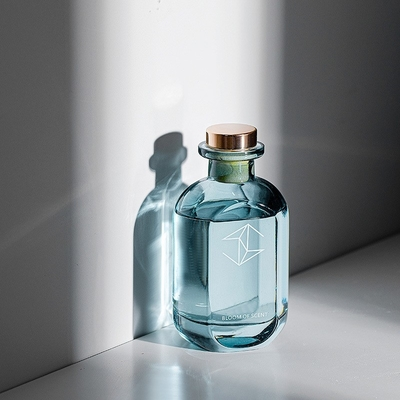glass_bottle: (170, 115, 294, 356)
